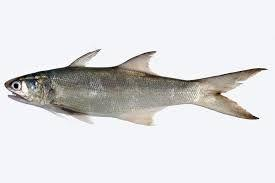Fourfinger Threadfish: (4, 49, 269, 127)
